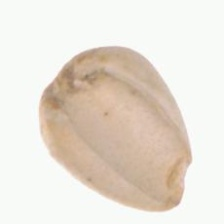L1: (37, 51, 79, 103), (163, 154, 193, 211)
L2: (38, 45, 193, 212)
